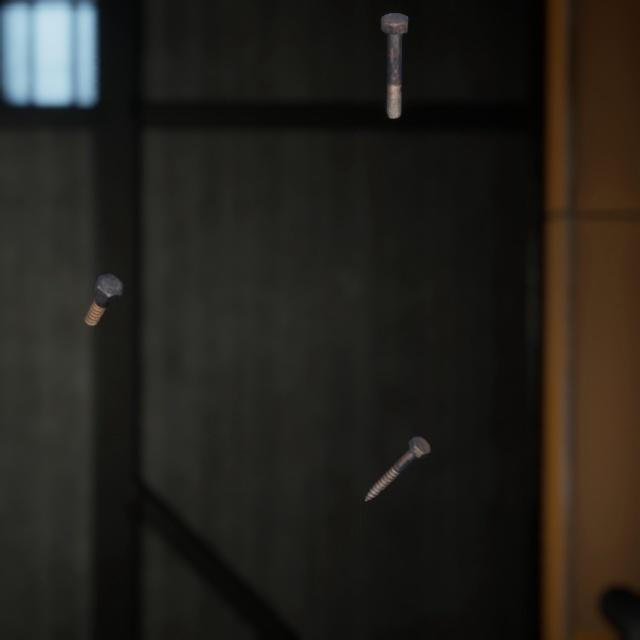bolt: (360, 411, 434, 485), (376, 0, 413, 113), (79, 252, 127, 314)
